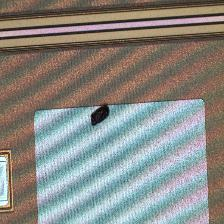PARTICLE: (84, 98, 120, 134)
